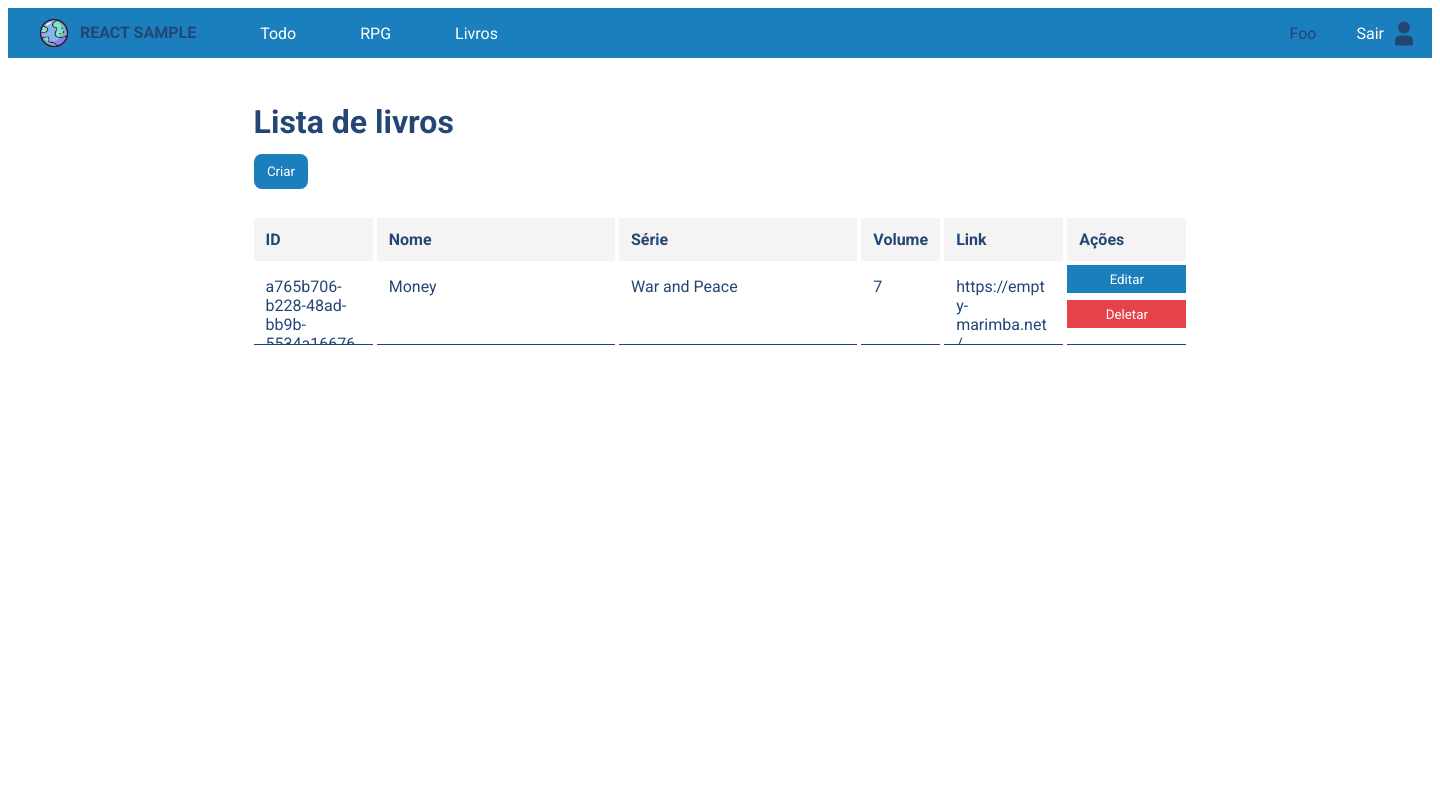
Test: BookPage › deve cancelar modal de deletaçào e fechar
What coordinates should you click on to do the following:
click the button "Deletar"
I would click on:
 (1127, 314)
Its box is [1067, 300, 1186, 328].
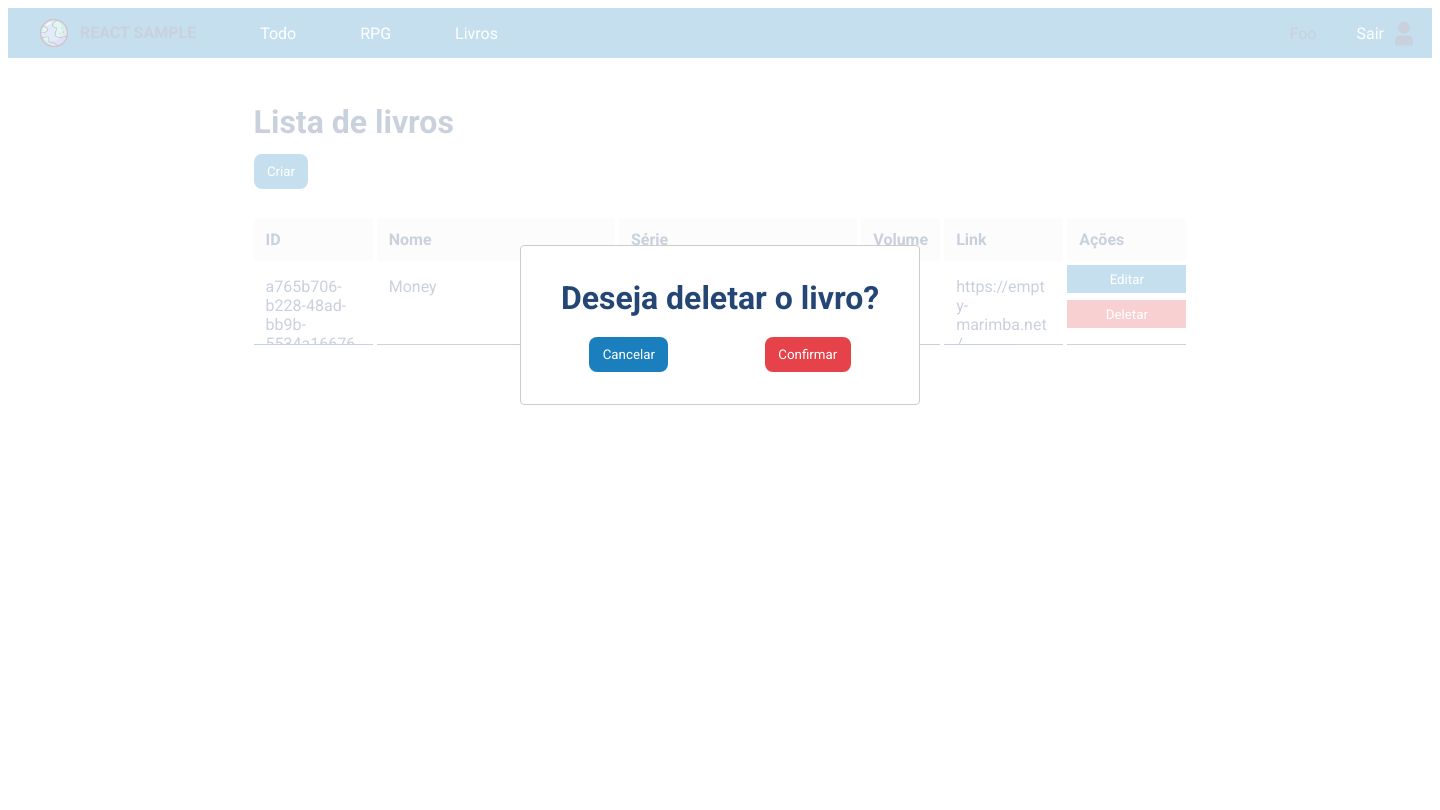
What coordinates should you click on to do the following:
click the button "Cancelar"
I would click on:
 (629, 354)
Its box is [589, 337, 668, 372].
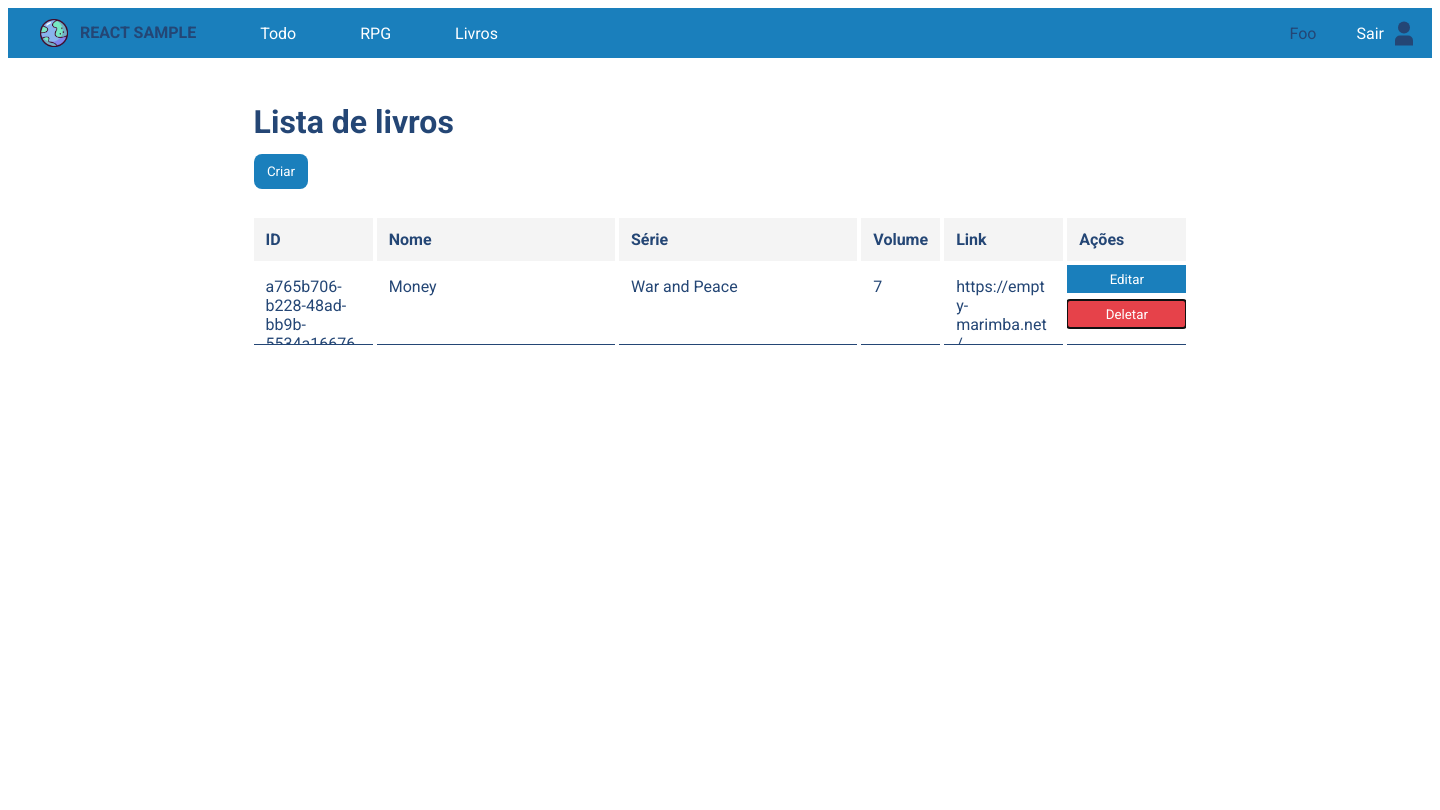
Expected: the heading "Deseja deletar o livro?" is gone
